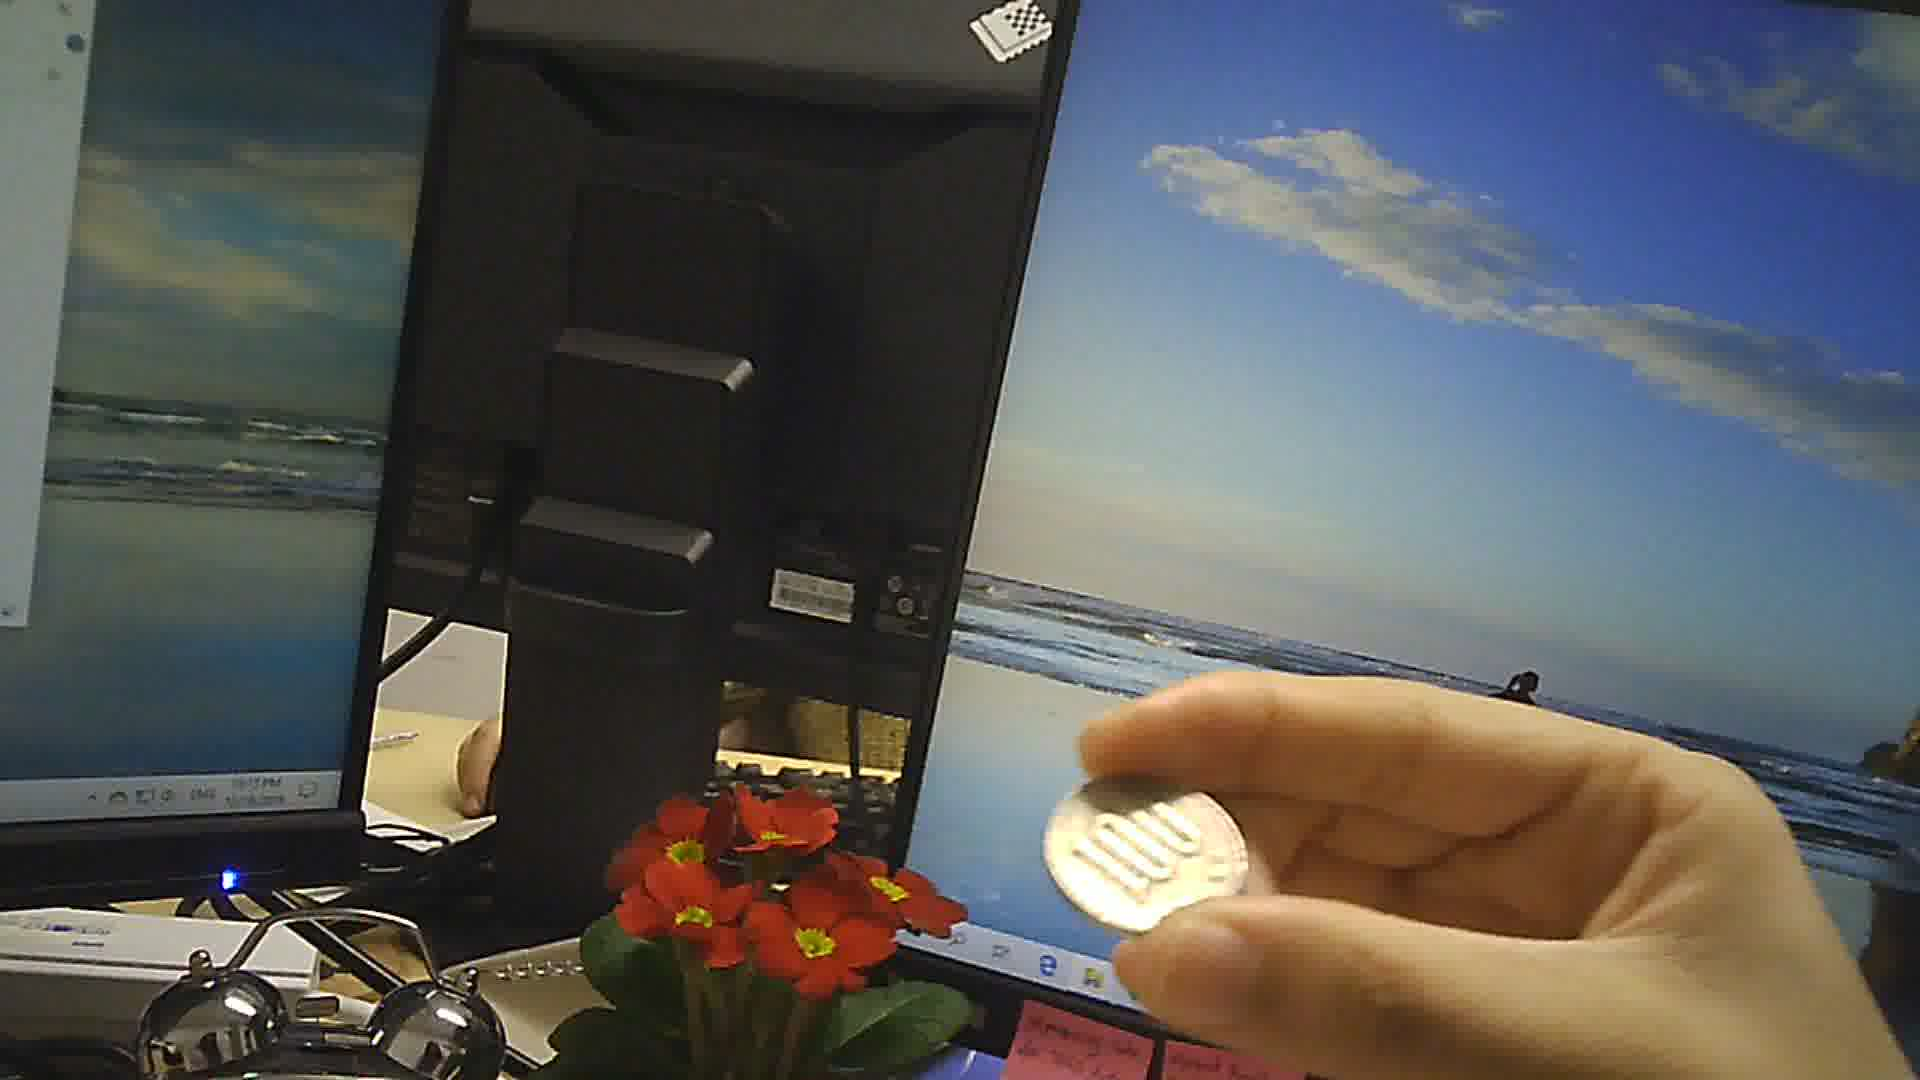100 Yen: (1038, 761, 1247, 928)
